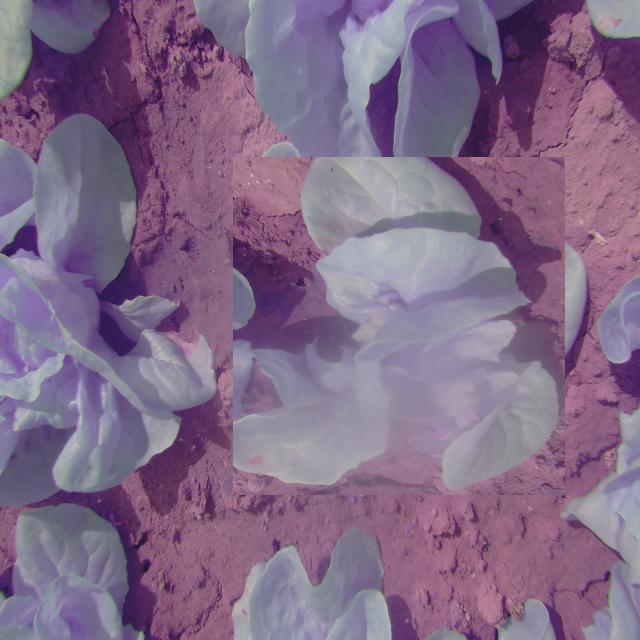vege: (231, 158, 566, 494)
